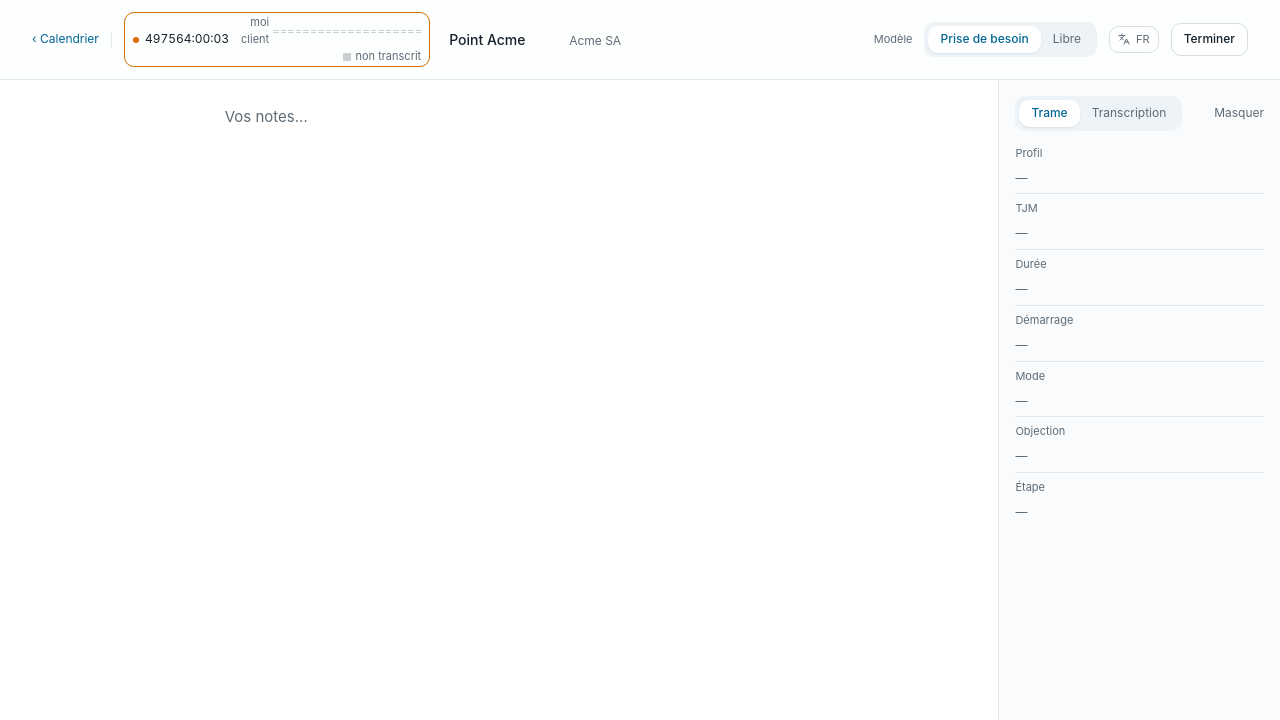
the column opens on the slate and the transcript is asked for › a row is a time, a side and a sentence — and the side is never a person
The image size is (1280, 720).
Expected: the button "Terminer" is shown, [1171, 23, 1248, 56]
Click the button "Transcription" at (1129, 113), box [1080, 100, 1178, 127]
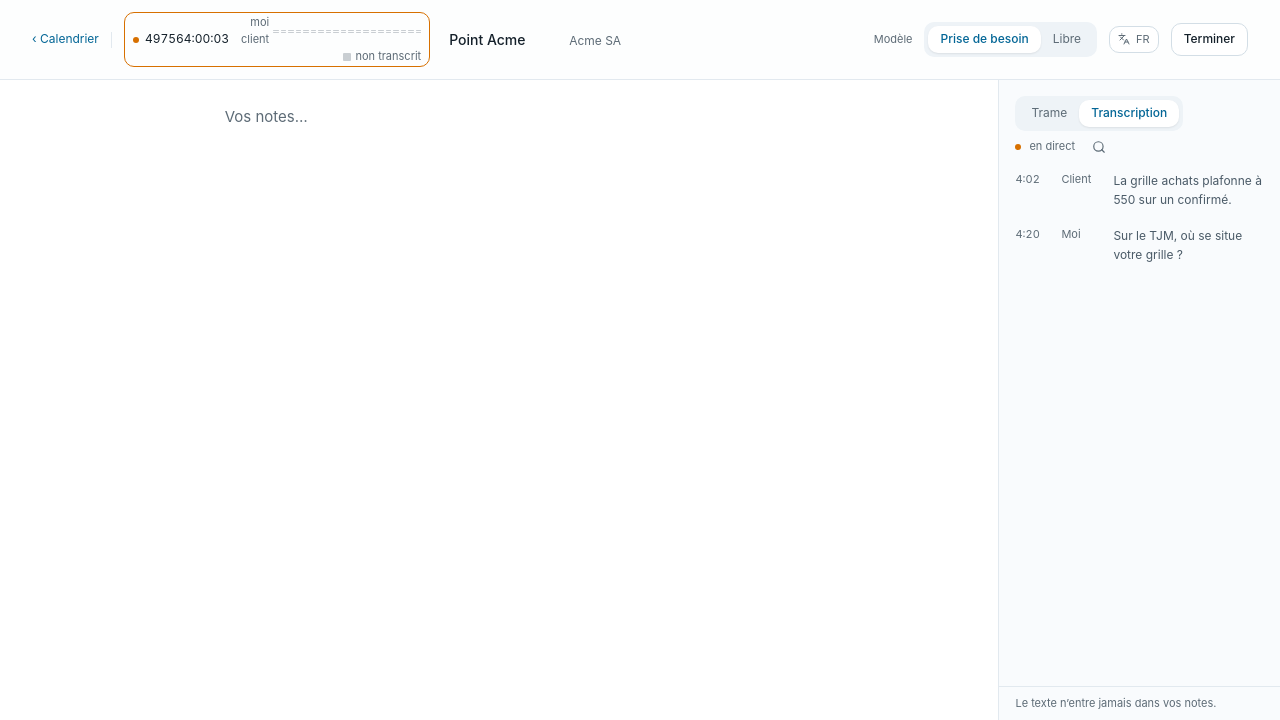
Now the text "4:02" is shown, box [1015, 172, 1040, 186]
Now the text "Client" is shown, box [1061, 172, 1091, 186]
Now the text "Moi" is shown, box [1061, 227, 1081, 241]
